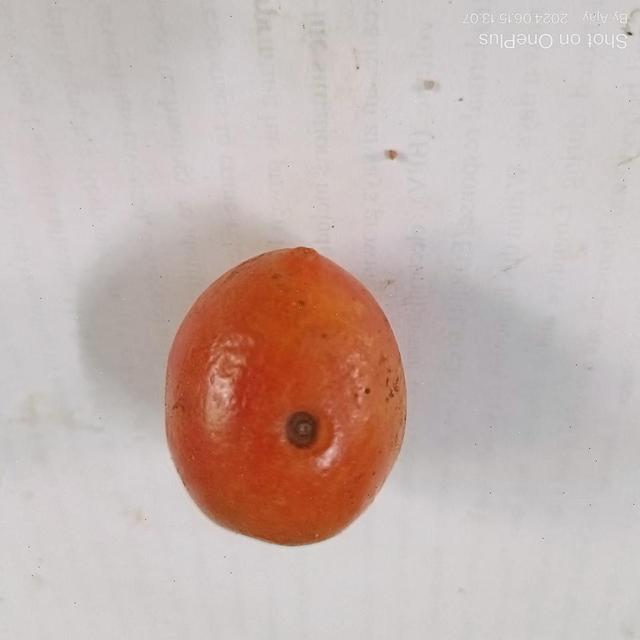Bacterial Spot Fruit: (189, 271, 213, 300)
